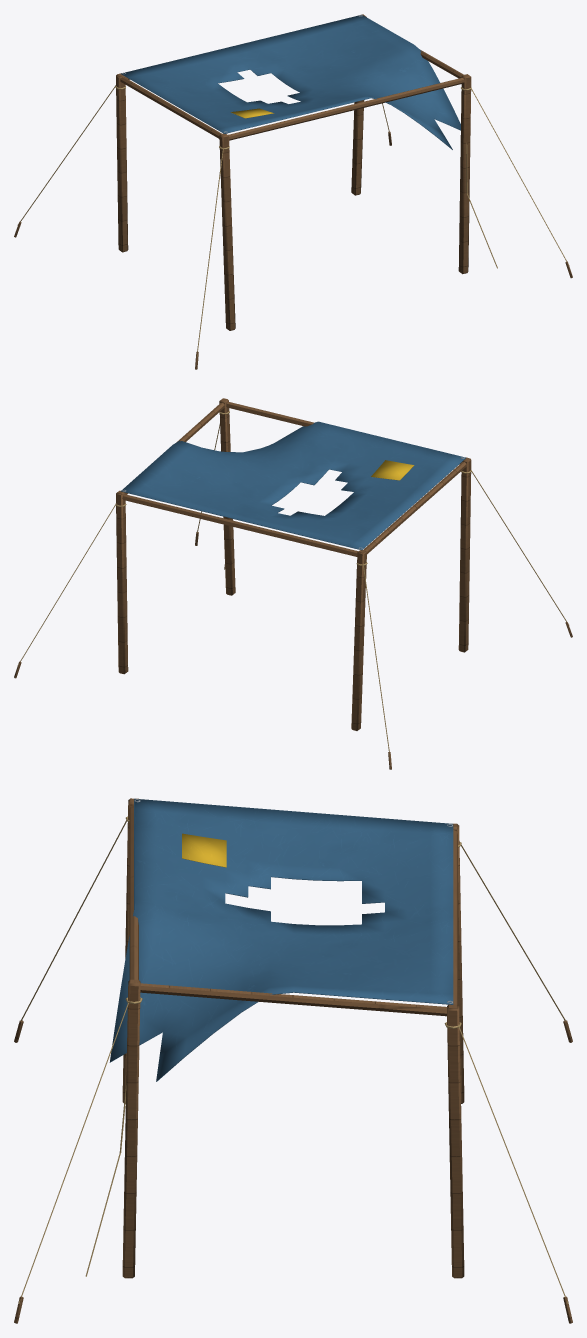
Rendered from awning_frame.glb.
3 renders of one model, top to bottom at view 1: azimuth 30°, elevation 25°; view 2: azimuth 150°, elevation 25°; view 3: azimuth 270°, elevation 25°, orthographic. The views are drawn at different scales.
Visible parts, largest first — view 1: awning_frame; view 2: awning_frame; view 3: awning_frame.
Part boxes in pixels (bbox=[...]): awning_frame: bbox=[14, 14, 572, 369]; awning_frame: bbox=[14, 398, 572, 769]; awning_frame: bbox=[14, 798, 572, 1323].
Bounding box in the file's own units: 4.87 × 2.41 × 4.07.
Materials: 6 (6 with a texture image).
